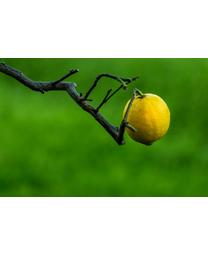lemon: (123, 94, 172, 145)
